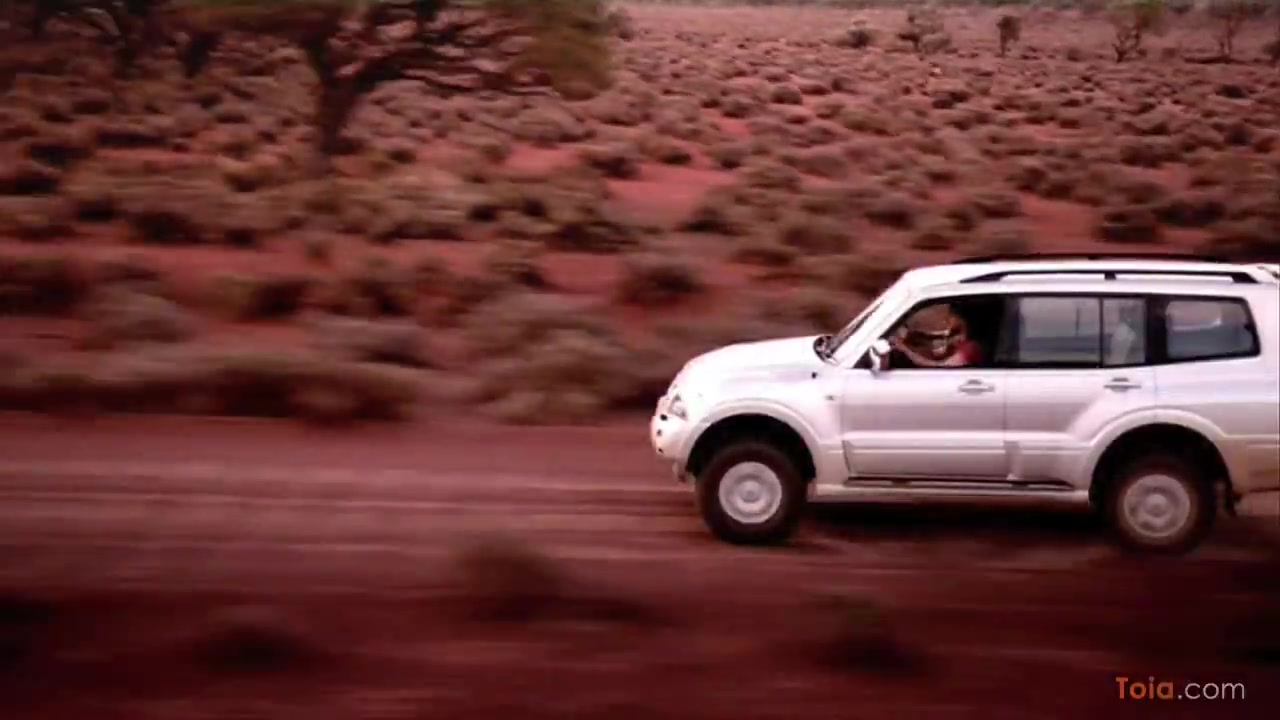car: (648, 250, 1279, 555)
